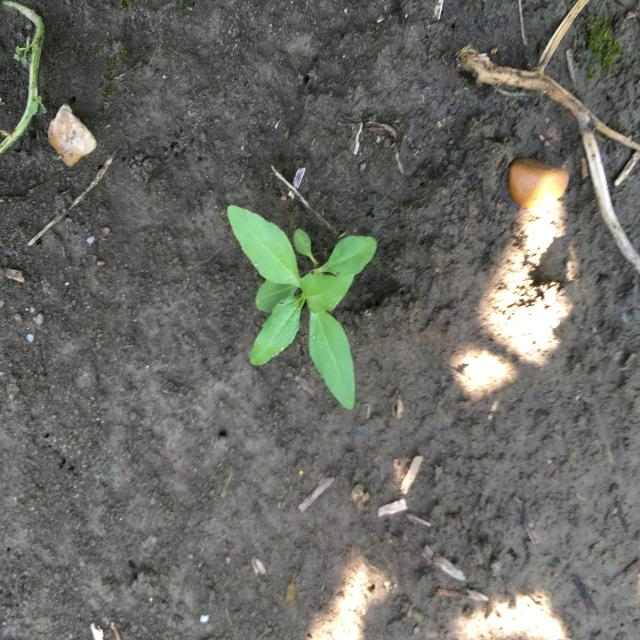Eclipta: (226, 204, 379, 413)
